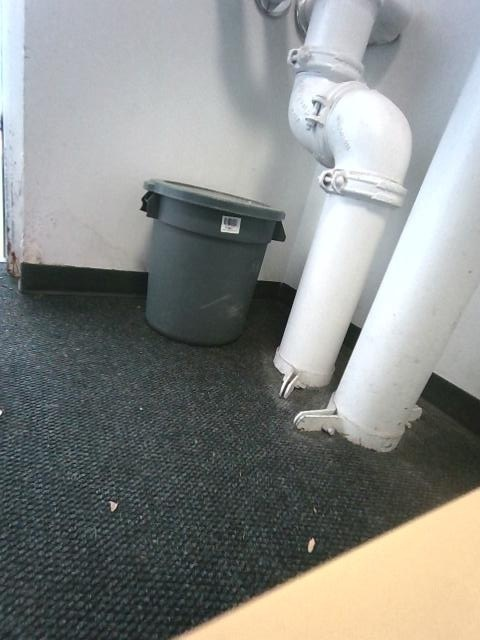ball: (274, 0, 411, 397), (141, 179, 284, 344)
